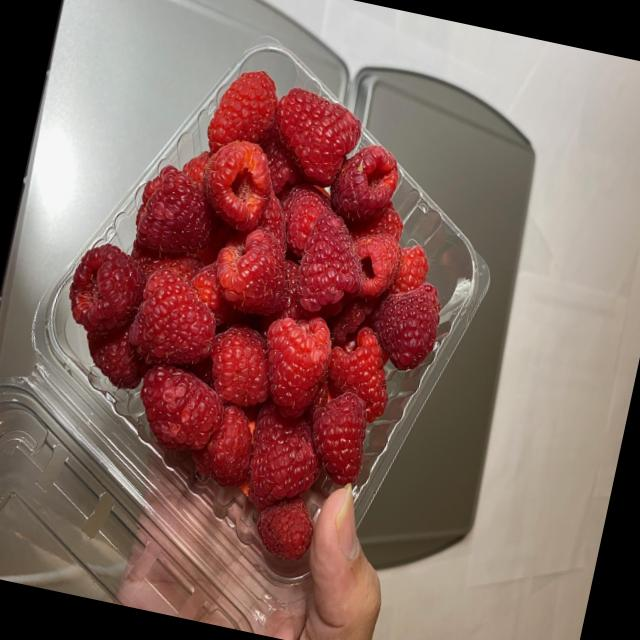raspberries: (98, 73, 462, 562)
